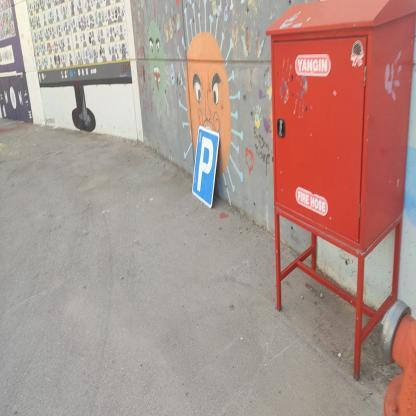parking: (192, 124, 220, 209)
